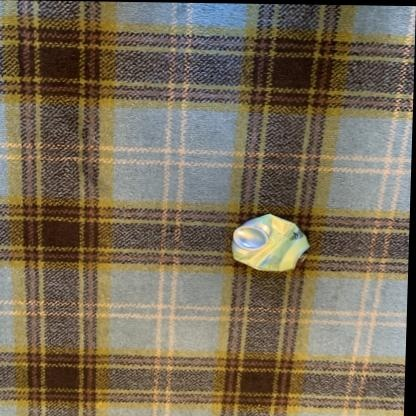trash: (232, 214, 308, 270)
